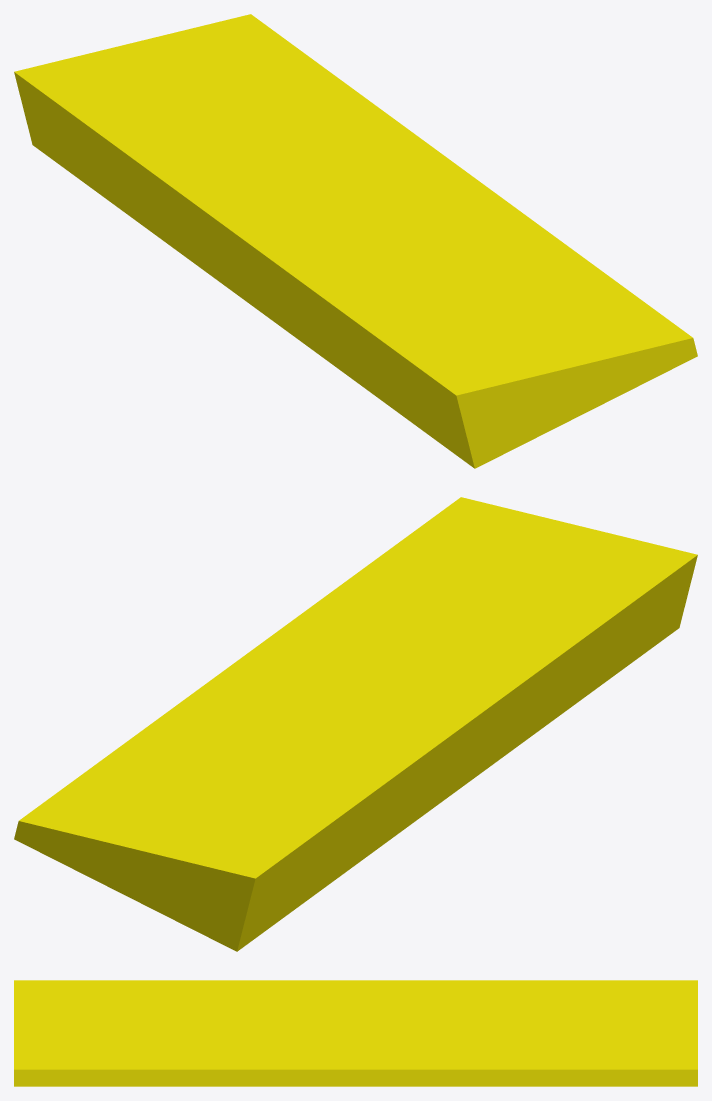
File: side_beach_90.fbx
3 renders of one model, top to bottom at view 1: azimuth 30°, elevation 25°; view 2: azimuth 150°, elevation 25°; view 3: azimuth 270°, elevation 25°, orthographic. The views are drawn at different scales.
Visible parts, largest first — view 1: Box001.001; view 2: Box001.001; view 3: Box001.001.
Boxes of the visible parts, x1,y1,x2,y2 form: Box001.001: (14, 14, 697, 468); Box001.001: (14, 497, 697, 951); Box001.001: (14, 980, 697, 1086).
Size of the model in its own units: 126 by 38.81 by 400.
